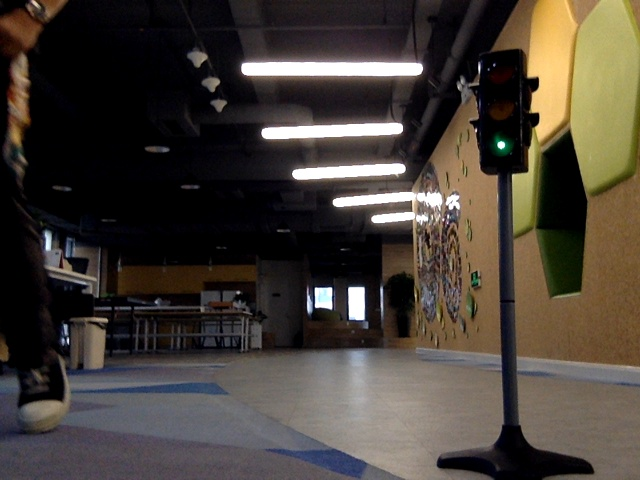green: (481, 59, 520, 166)
